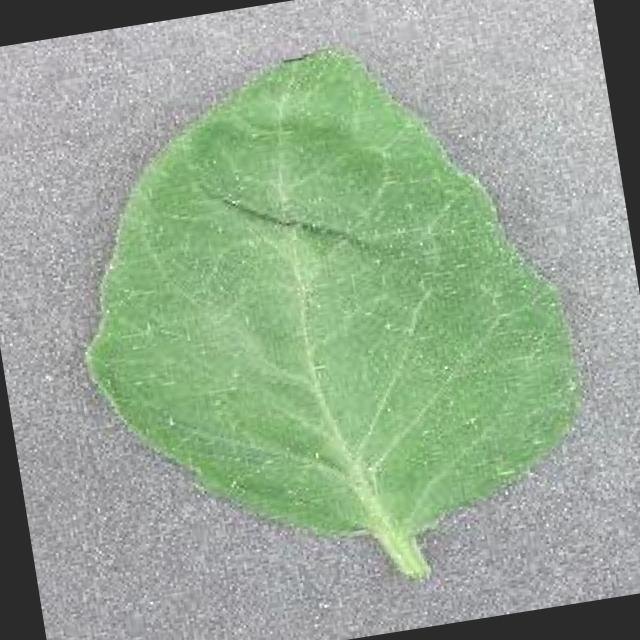healthy: (86, 48, 578, 576)
